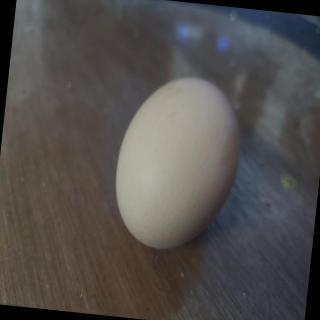Telur: (104, 68, 251, 259)
